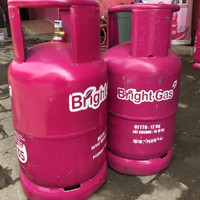bright_gas: (8, 1, 109, 200), (103, 4, 182, 177)
